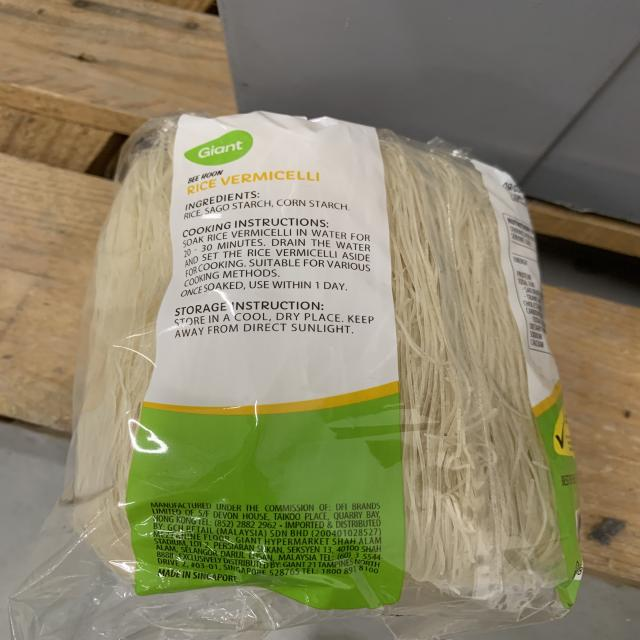object_name: (123, 122, 563, 605)
